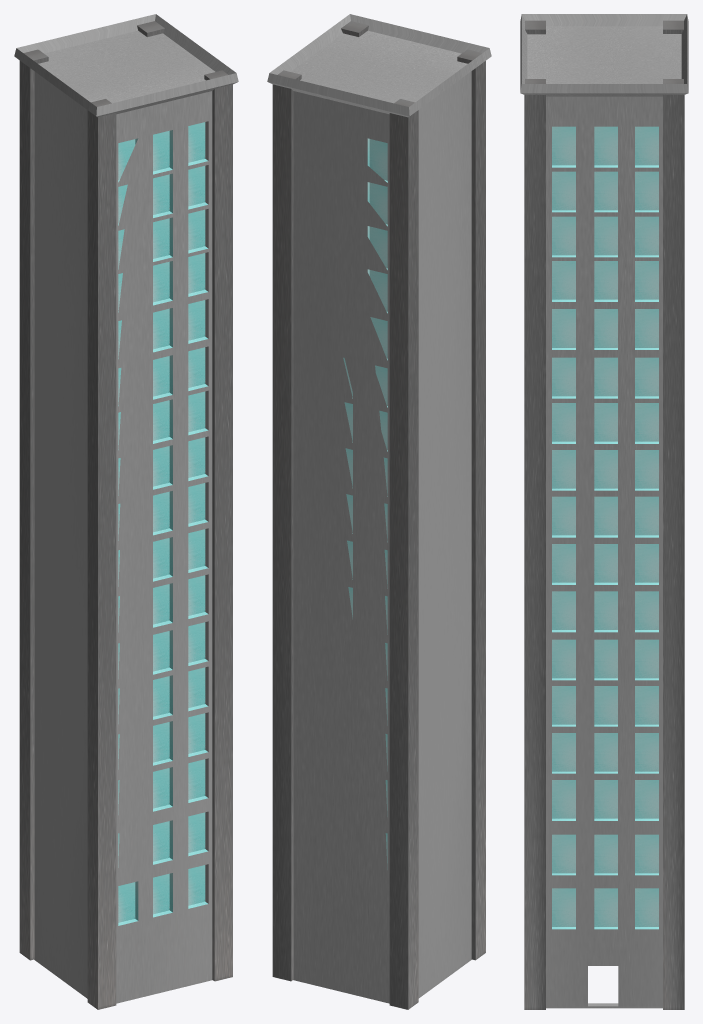
Rendered from pptext.fbx.
3 renders of one model, left to right at view 1: azimuth 30°, elevation 25°; view 2: azimuth 150°, elevation 25°; view 3: azimuth 270°, elevation 25°, orthographic. The views are drawn at different scales.
Parts seen in each view (by area): view 1: group4_pasted__group1_pasted__pasted__group_pasted__pasted__; view 2: group4_pasted__group1_pasted__pasted__group_pasted__pasted__; view 3: group4_pasted__group1_pasted__pasted__group_pasted__pasted__.
Part boxes in pixels (bbox=[...]): group4_pasted__group1_pasted__pasted__group_pasted__pasted__: bbox=[14, 14, 238, 1009]; group4_pasted__group1_pasted__pasted__group_pasted__pasted__: bbox=[267, 14, 491, 1009]; group4_pasted__group1_pasted__pasted__group_pasted__pasted__: bbox=[520, 14, 688, 1009].
Size of the model in its own units: 16.84 by 102 by 16.84.
3 materials, 3 textured.
